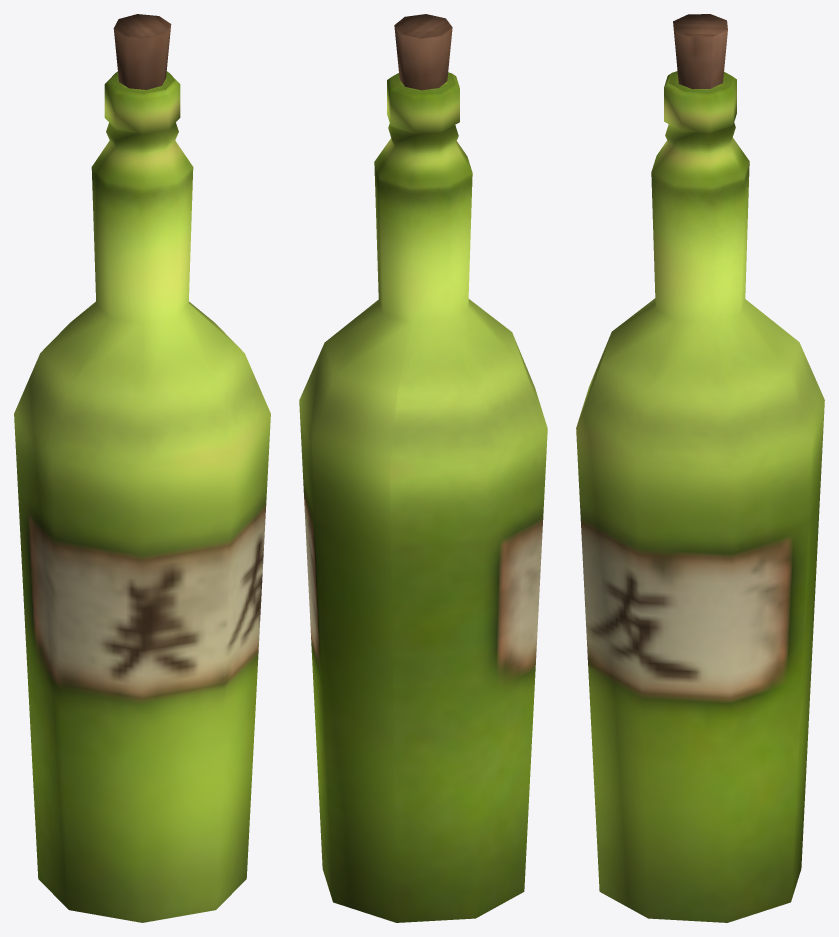
Rendered from Potion4.FBX.
3 views of the same model, side by side, from view 1: azimuth 30°, elevation 25°; view 2: azimuth 150°, elevation 25°; view 3: azimuth 270°, elevation 25° (orthographic).
Parts seen in each view (by area): view 1: potion4; view 2: potion4; view 3: potion4.
Boxes of the visible parts, box(x1,y1,x2,y2) form: potion4: box(14, 14, 270, 922); potion4: box(299, 14, 547, 922); potion4: box(576, 14, 824, 922).
Bounding box in the file's own units: 6.69 × 25.35 × 6.69.
